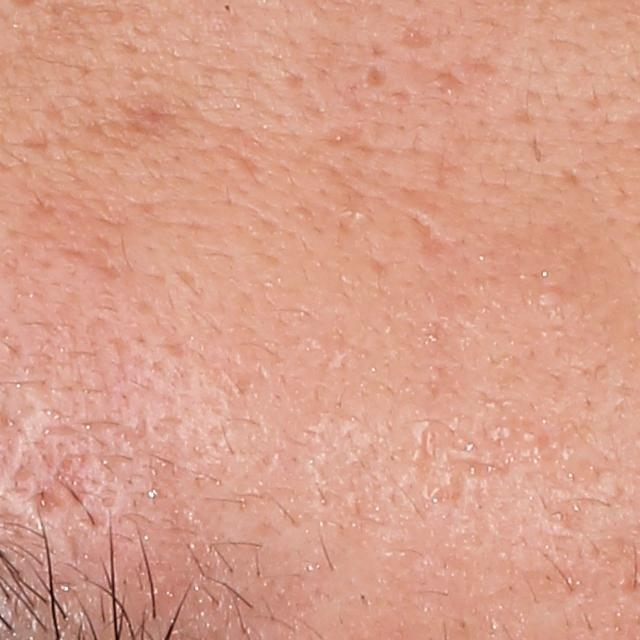atrophic_scar: (407, 211, 468, 276), (55, 245, 122, 284), (25, 487, 81, 522), (393, 11, 437, 50), (322, 124, 373, 152), (458, 54, 501, 84), (360, 61, 390, 91)
